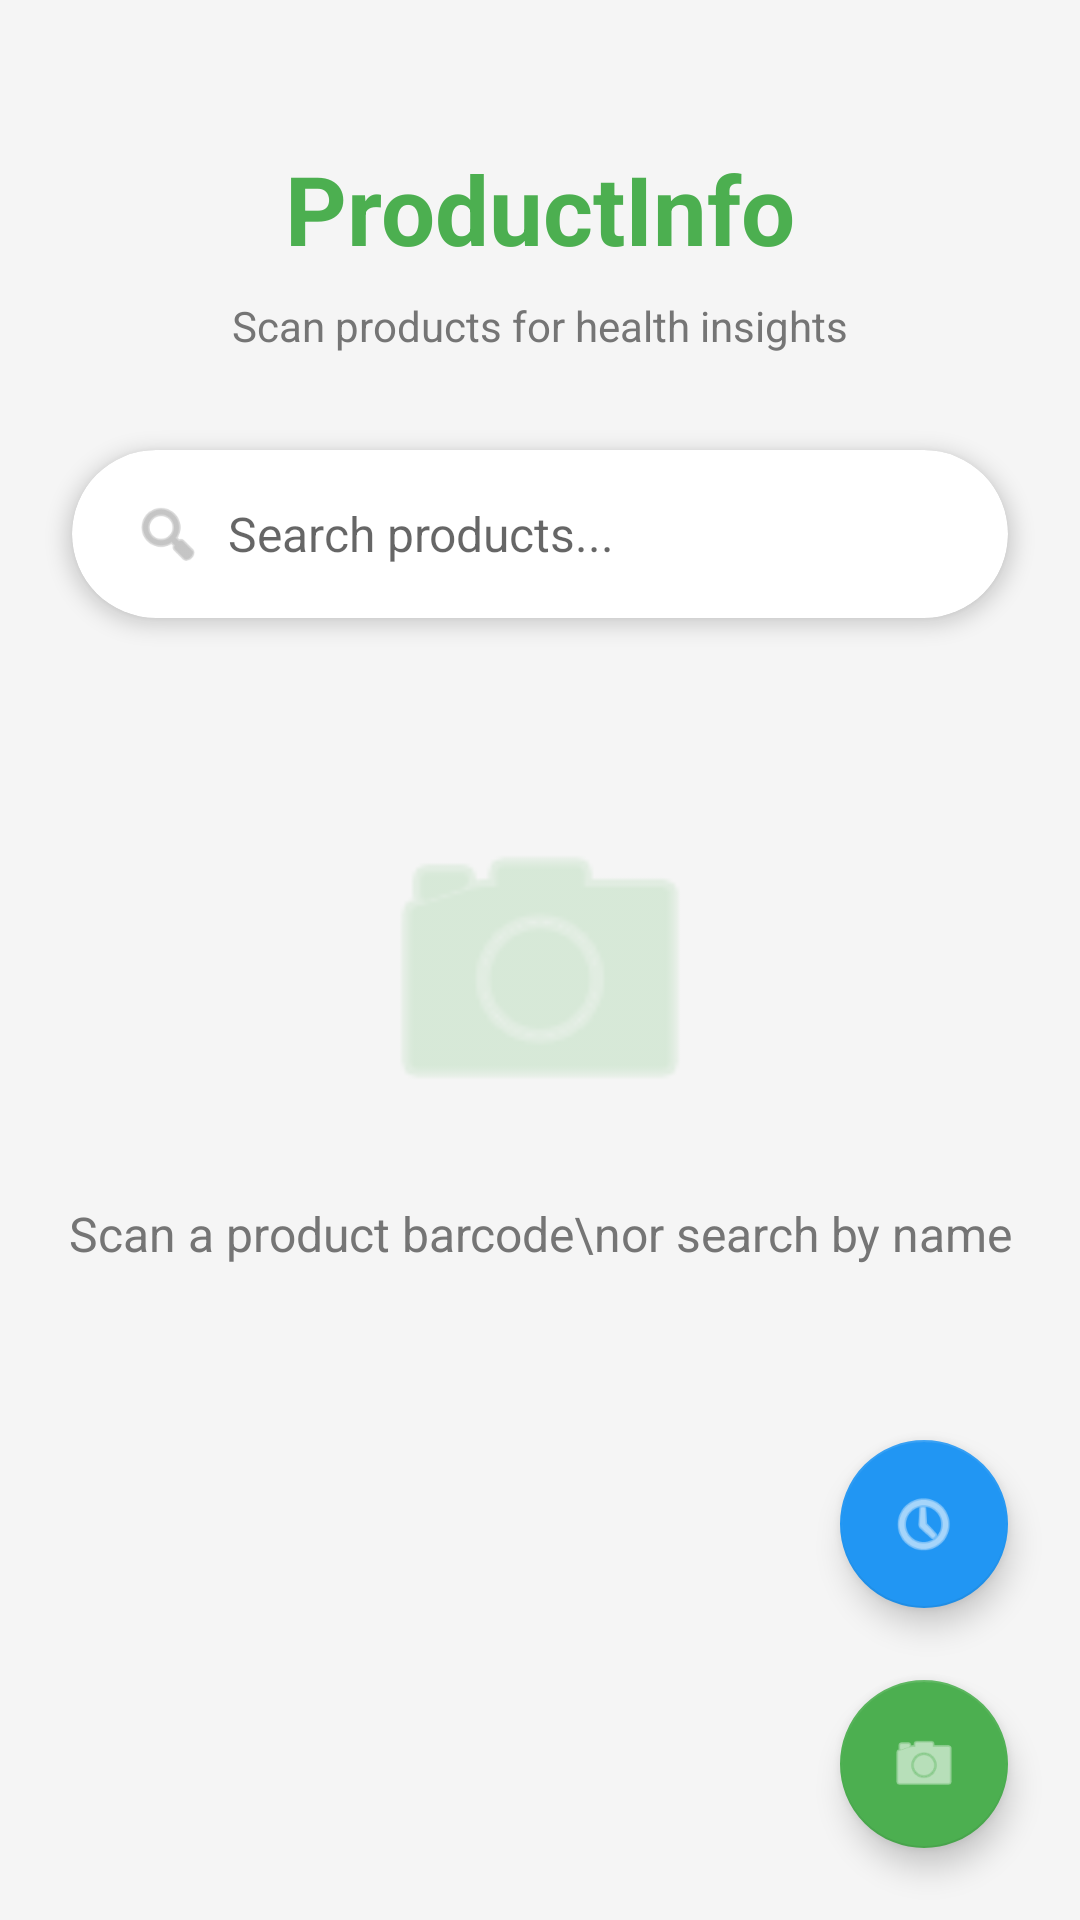

Where icons sit on this 1080w x 1920h app screen, as BBox(x1, y1, x2, y2):
Scan barcode: BBox(840, 1680, 1008, 1848)
View history: BBox(840, 1440, 1008, 1608)
